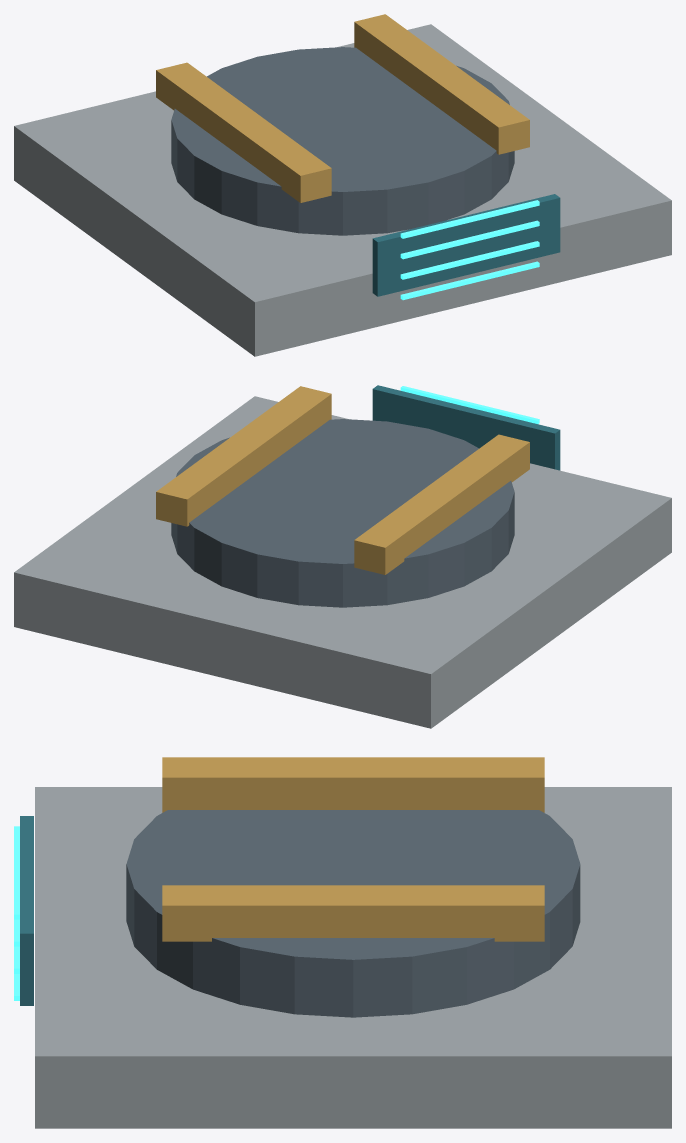
The model's file is missile-silo.glb.
3 views of the same model, one above another, from view 1: azimuth 30°, elevation 25°; view 2: azimuth 150°, elevation 25°; view 3: azimuth 270°, elevation 25° (orthographic). The views are drawn at different scales.
Visible parts, largest first — view 1: silo foundation, silo armored hatch, glowing status panel, hatch hinge, hatch hinge.001, telemetry line, telemetry line.001, telemetry line.002, telemetry line.003; view 2: silo foundation, silo armored hatch, hatch hinge, hatch hinge.001, glowing status panel, telemetry line.003; view 3: silo foundation, silo armored hatch, hatch hinge.001, hatch hinge, glowing status panel, telemetry line.003.
Boxes of the visible parts, bbox=[...] form: silo foundation: bbox=[14, 24, 671, 356]; silo armored hatch: bbox=[171, 47, 514, 235]; glowing status panel: bbox=[372, 194, 560, 296]; hatch hinge: bbox=[156, 62, 331, 202]; hatch hinge.001: bbox=[354, 14, 529, 154]; telemetry line: bbox=[400, 261, 539, 300]; telemetry line.001: bbox=[400, 241, 539, 279]; telemetry line.002: bbox=[400, 220, 539, 259]; telemetry line.003: bbox=[400, 200, 539, 238]; silo foundation: bbox=[14, 396, 671, 728]; silo armored hatch: bbox=[171, 419, 514, 607]; hatch hinge: bbox=[354, 434, 529, 574]; hatch hinge.001: bbox=[156, 386, 331, 526]; glowing status panel: bbox=[372, 385, 560, 470]; telemetry line.003: bbox=[400, 386, 539, 423]; silo foundation: bbox=[35, 787, 671, 1128]; silo armored hatch: bbox=[126, 810, 580, 1017]; hatch hinge.001: bbox=[162, 885, 544, 941]; hatch hinge: bbox=[162, 757, 544, 812]; glowing status panel: bbox=[20, 816, 33, 1005]; telemetry line.003: bbox=[14, 826, 19, 919].
Size of the model in its own units: 1.6 by 0.45 by 1.65.
